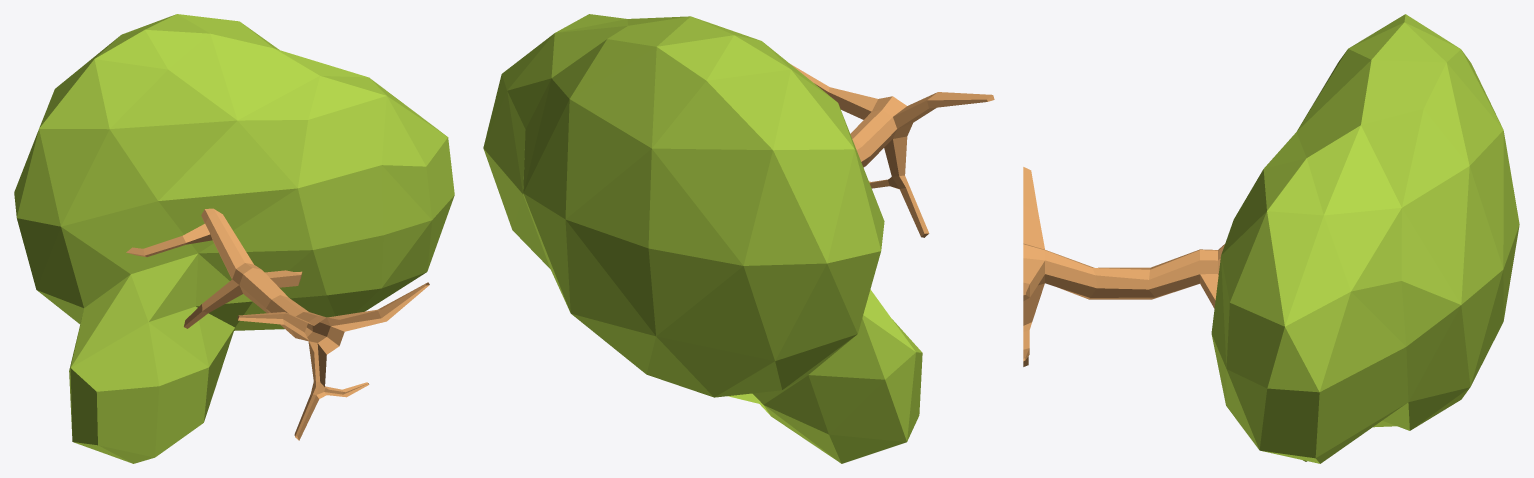
Rendered from Tree3.fbx.
3 renders of one model, left to right at view 1: azimuth 30°, elevation 25°; view 2: azimuth 150°, elevation 25°; view 3: azimuth 270°, elevation 25°, orthographic. The views are drawn at different scales.
Visible parts, largest first — view 1: generic_tree_3; view 2: generic_tree_3; view 3: generic_tree_3.
Boxes of the visible parts, x1,y1,x2,y2 form: generic_tree_3: (14, 14, 454, 463); generic_tree_3: (483, 14, 994, 463); generic_tree_3: (1023, 14, 1519, 463).
Size of the model in its own units: 543 by 530 by 512.
